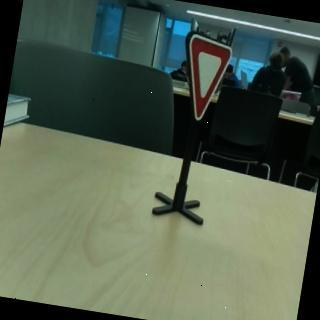sign_yield: (175, 33, 236, 127)
